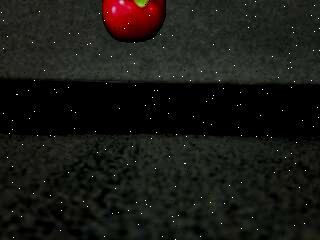Tomato: (100, 0, 168, 45)
